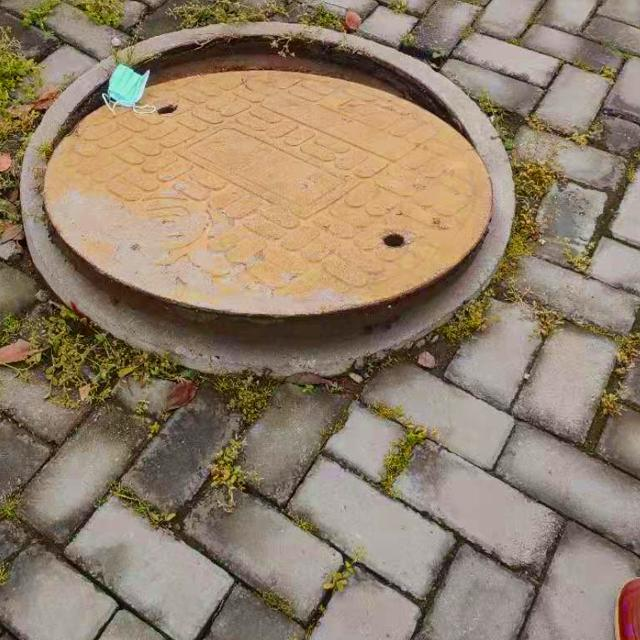uncovered: (17, 20, 517, 378)
